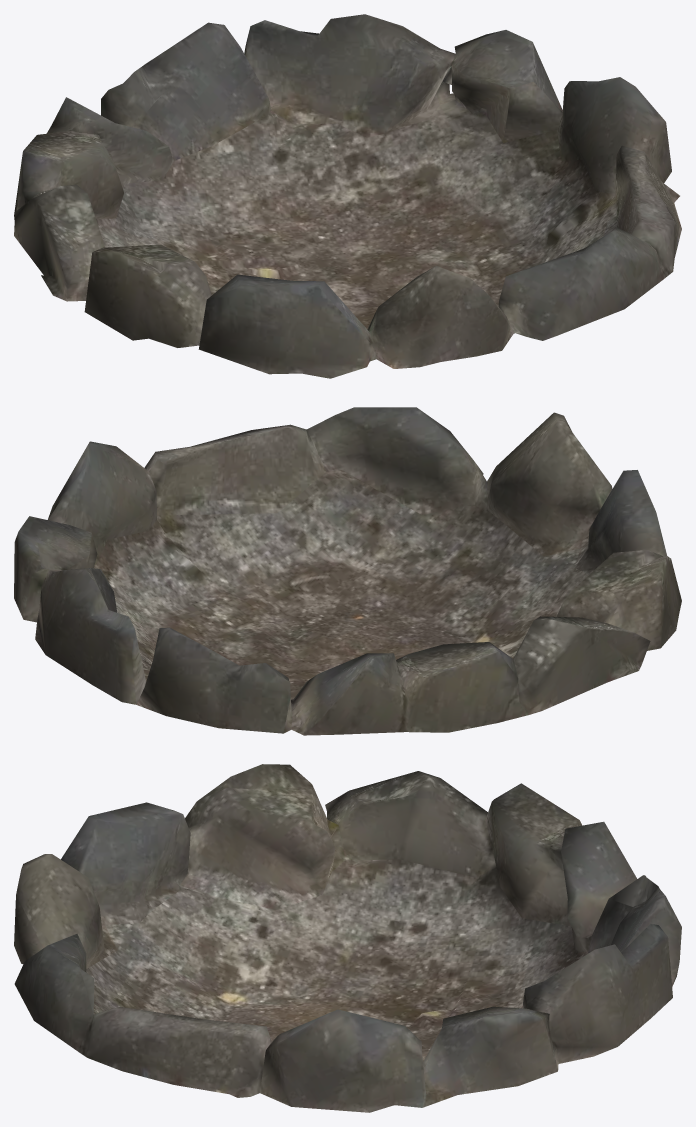
The model's file is firepit.glb.
The picture shows the model from 3 angles, top to bottom: view 1: azimuth 30°, elevation 25°; view 2: azimuth 150°, elevation 25°; view 3: azimuth 270°, elevation 25°; orthographic projection.
Parts seen in each view (by area): view 1: stone_fire_pit; view 2: stone_fire_pit; view 3: stone_fire_pit.
Boxes of the visible parts, x1,y1,x2,y2 form: stone_fire_pit: (14, 14, 681, 378); stone_fire_pit: (14, 407, 681, 735); stone_fire_pit: (14, 764, 681, 1112).
Bounding box in the file's own units: 1.45 × 0.3811 × 1.43.
Materials: 1 (1 with a texture image).
